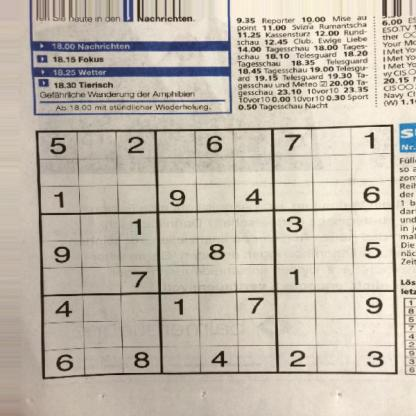sudoku: (31, 122, 403, 382)
